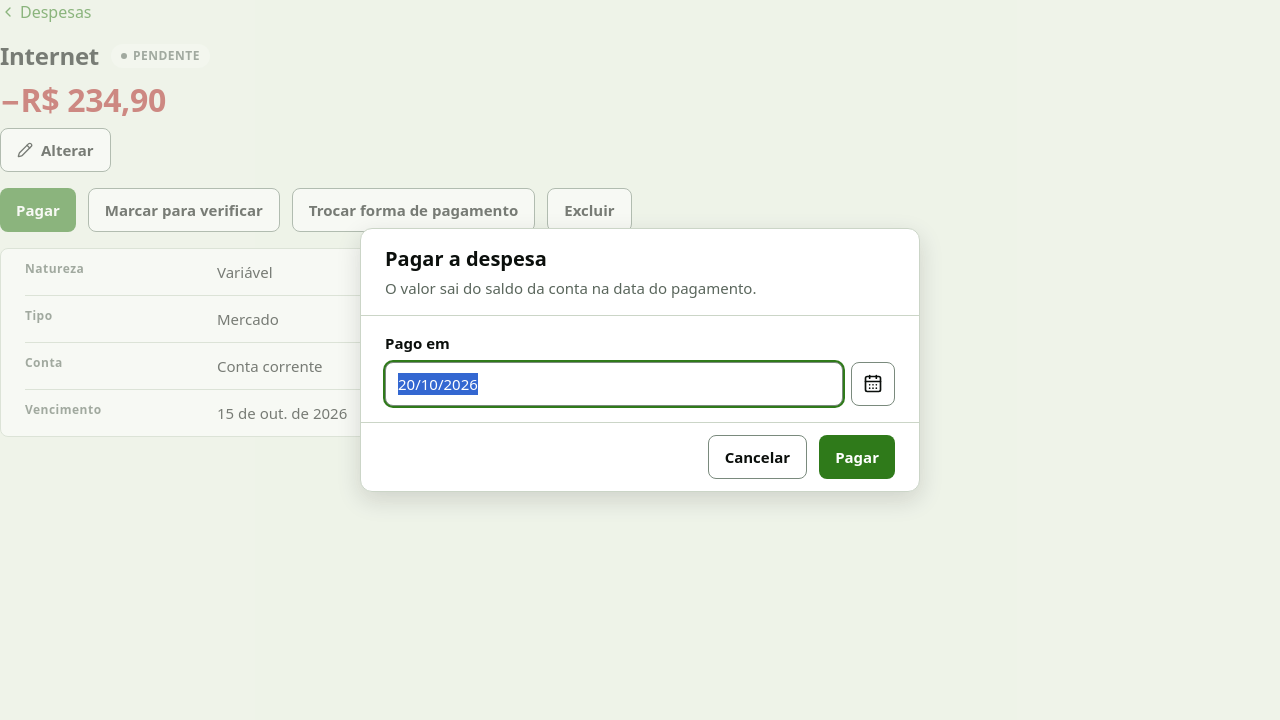
Test case: ExpenseDetailPage actions (spec 0012) › shows the transition conflict in the open dialog and reloads the expense
The image size is (1280, 720).
Click the button "Pagar".
click(857, 457)  # box [819,435,895,479]
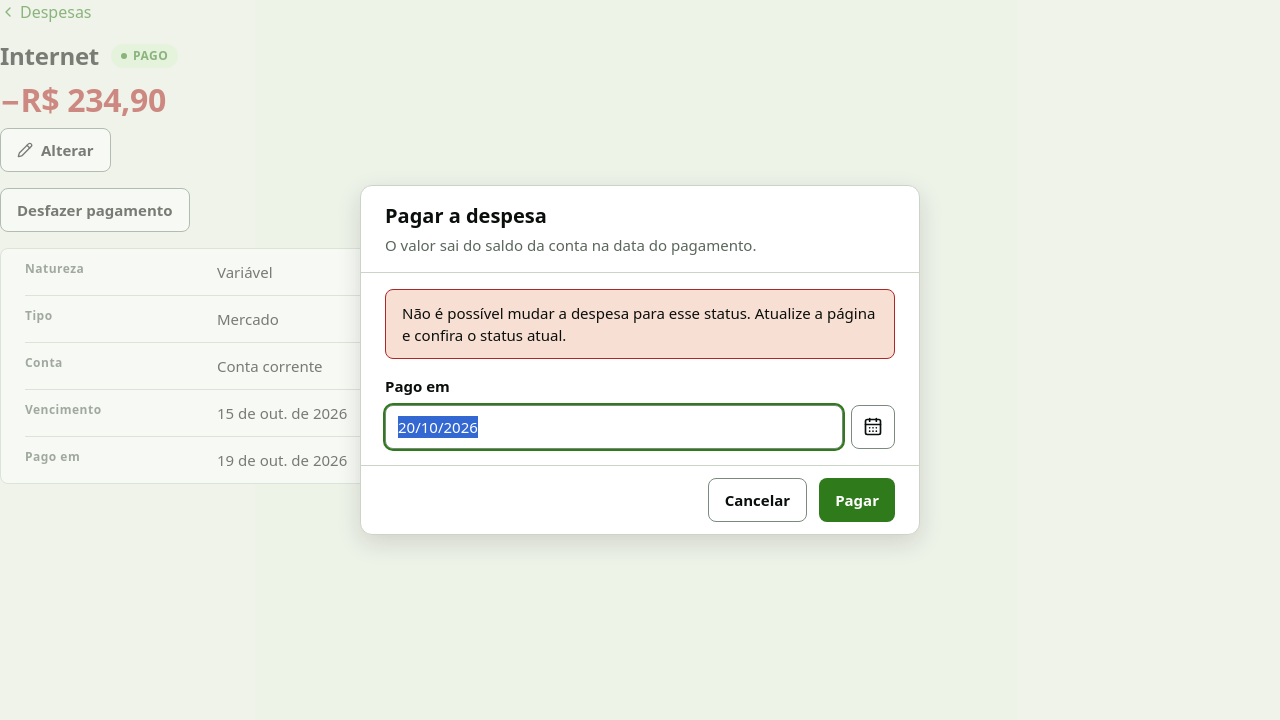
Check: the message does not show "raw message", box [385,289,895,359]
Check: the message shows "Não é possível mudar a despesa para esse status. Atualize a página e confira o status atual.", box [402,303,875,345]
